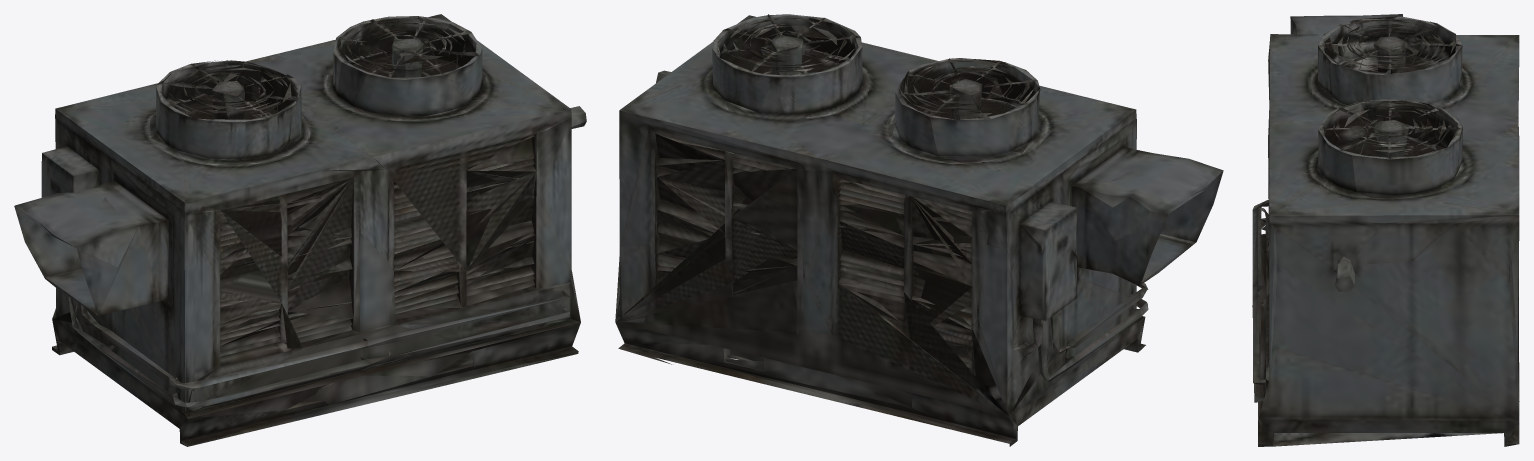
File: ncz-roof-plant.glb
The picture shows the model from 3 angles, left to right: view 1: azimuth 30°, elevation 25°; view 2: azimuth 150°, elevation 25°; view 3: azimuth 270°, elevation 25°; orthographic projection. The views are drawn at different scales.
Visible parts, largest first — view 1: output_unwrapped; view 2: output_unwrapped; view 3: output_unwrapped.
Part boxes in pixels (box(x1,y1,x2,y2)): output_unwrapped: box(14, 14, 586, 446); output_unwrapped: box(615, 14, 1223, 446); output_unwrapped: box(1252, 14, 1519, 446).
Size of the model in its own units: 1.9 by 0.9621 by 0.8517.
1 material, 1 textured.
